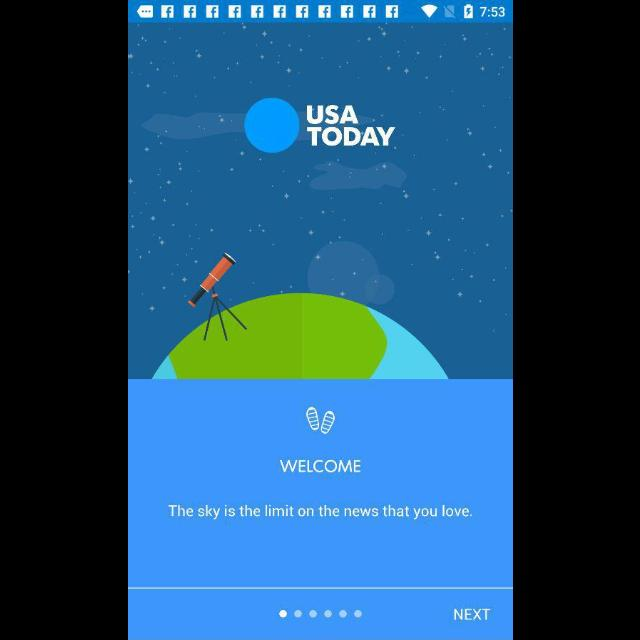image: (128, 24, 512, 380), (242, 98, 396, 154), (305, 408, 335, 434)
pageindicator: (278, 609, 362, 619)
text: (168, 504, 472, 520), (279, 460, 361, 474), (453, 607, 491, 621)
uppertaskbar: (128, 1, 512, 23)
